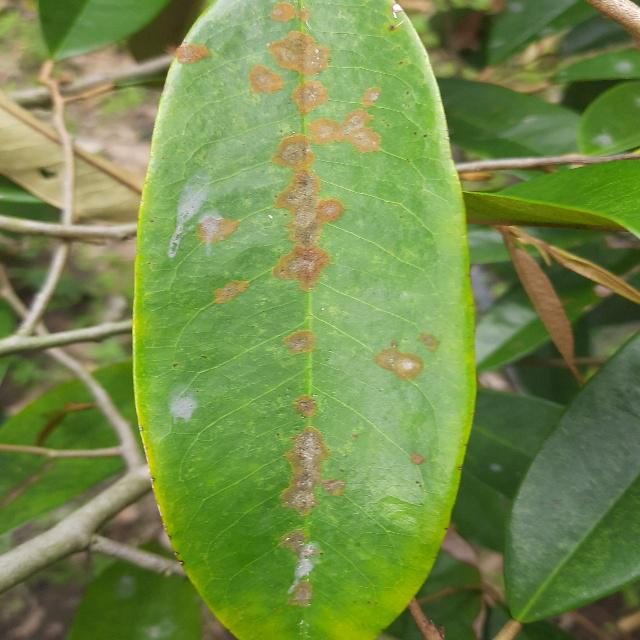Algal Leaf Spot: (131, 0, 482, 639)
